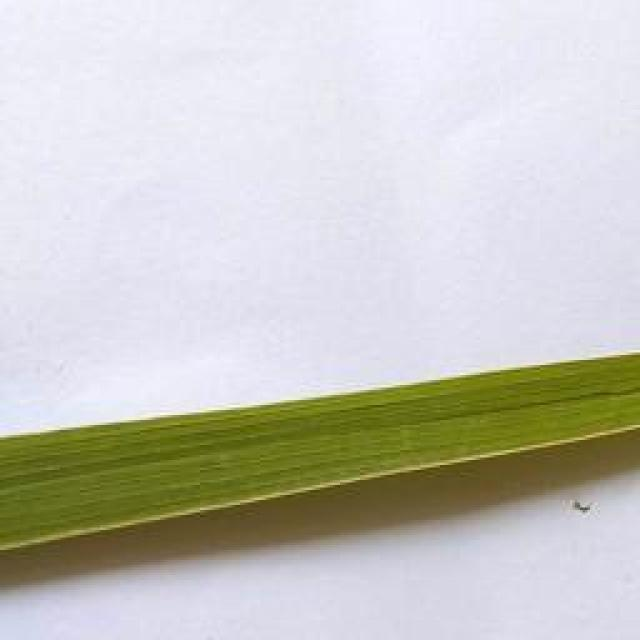Healthy-Plant: (137, 391, 440, 461), (0, 418, 198, 495), (372, 351, 544, 437), (506, 334, 640, 430), (120, 413, 299, 481), (4, 422, 99, 516)
